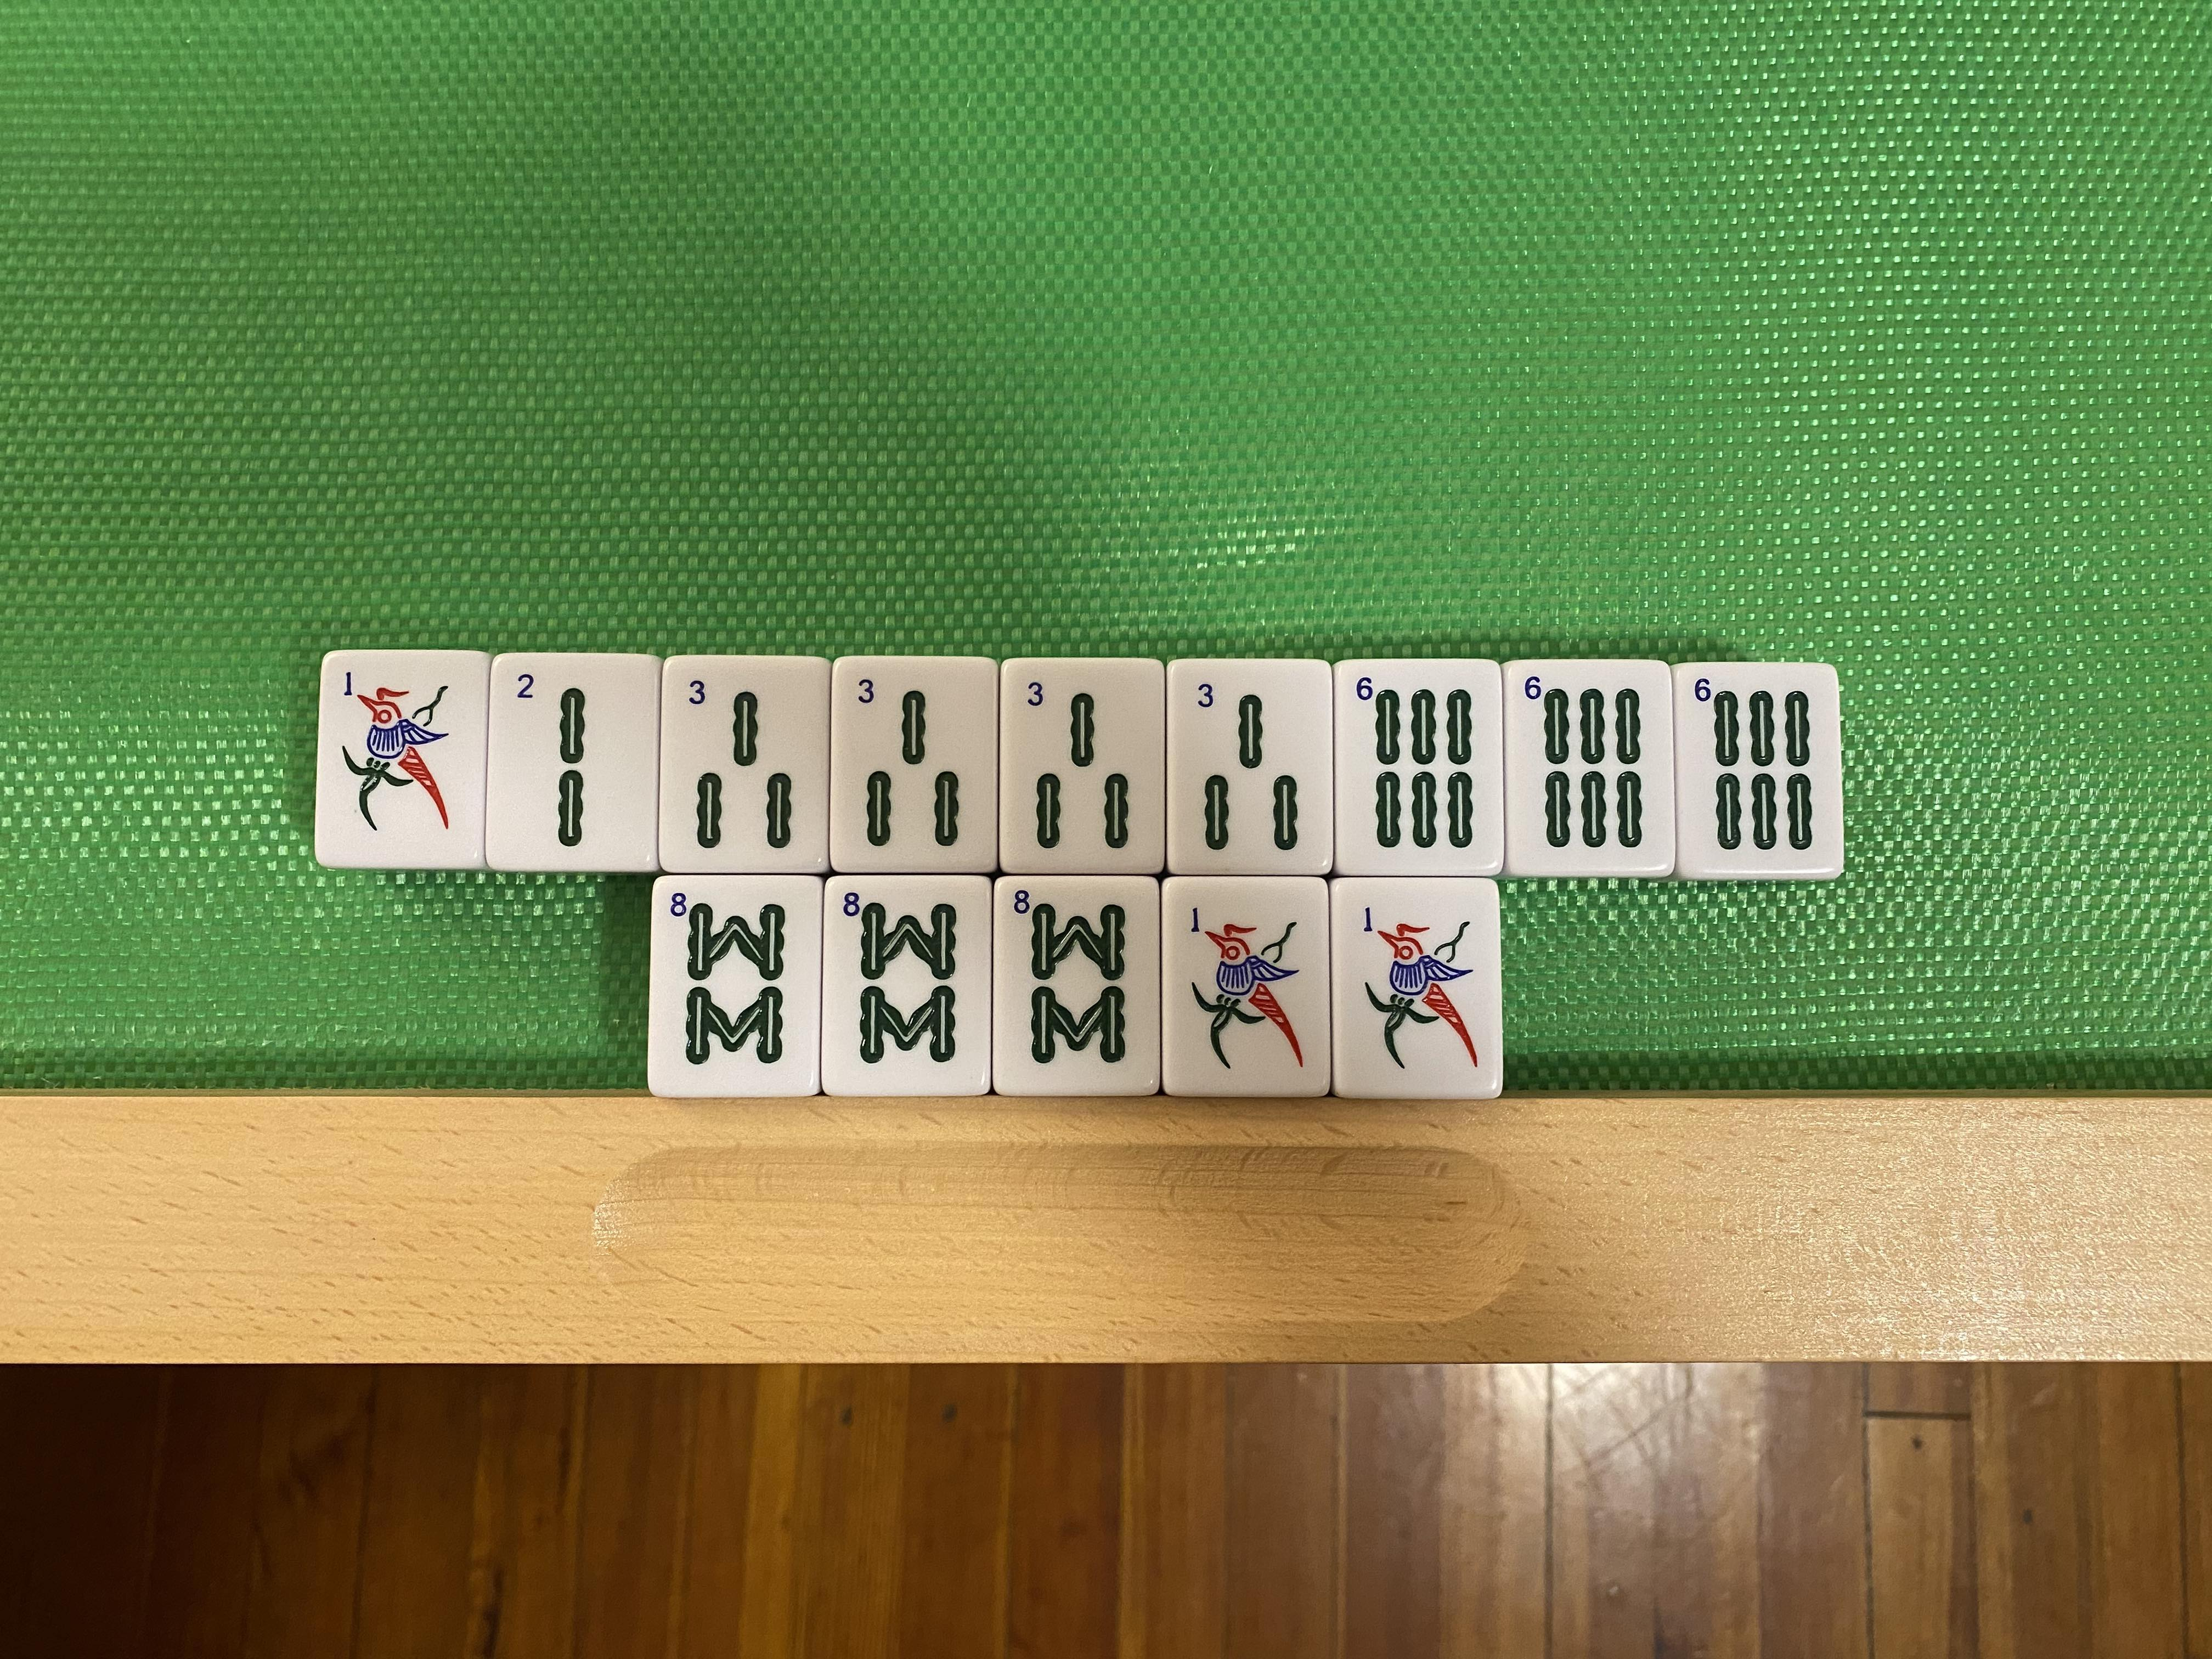bamboo-eight: (822, 878, 991, 1096), (650, 878, 820, 1093), (998, 877, 1160, 1093)
bamboo-one: (317, 653, 489, 866), (1336, 882, 1498, 1096), (1167, 878, 1327, 1089)
bamboo-six: (1339, 662, 1501, 871), (1510, 664, 1670, 871), (1677, 667, 1836, 871)
bamboo-three: (662, 659, 829, 873), (833, 659, 1000, 871), (1003, 660, 1165, 871), (1170, 662, 1329, 877)
bamboo-two: (491, 659, 655, 868)
